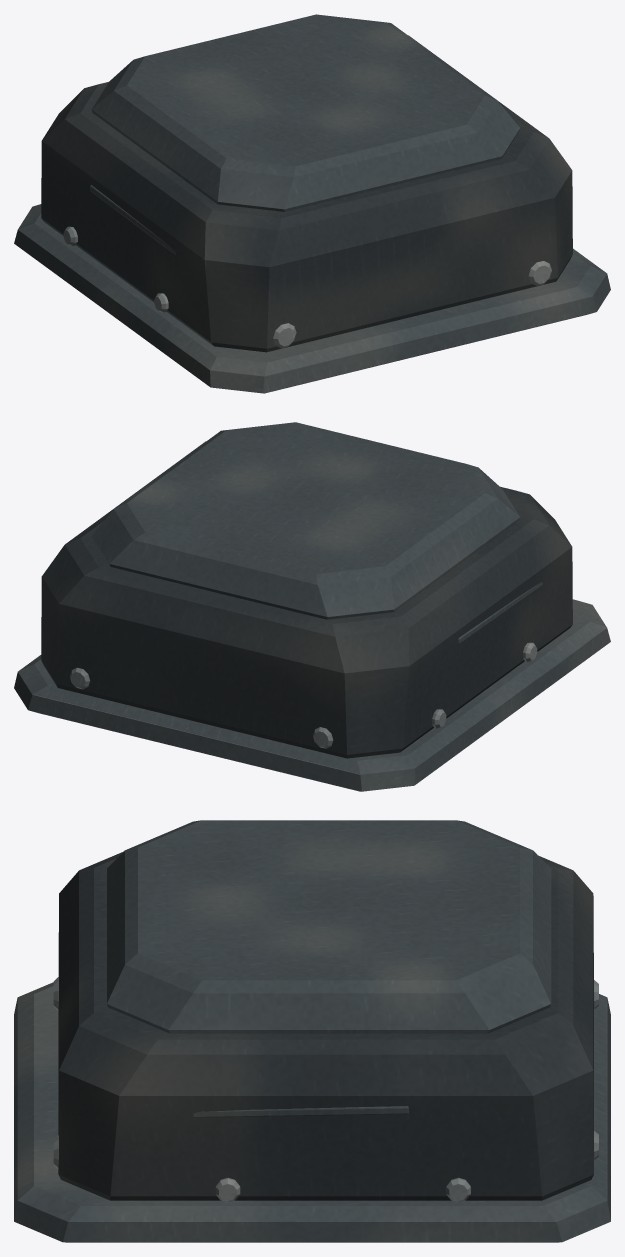
The model's file is 02_Casque.fbx.
3 views of the same model, one above another, from view 1: azimuth 30°, elevation 25°; view 2: azimuth 150°, elevation 25°; view 3: azimuth 270°, elevation 25° (orthographic). The views are drawn at different scales.
Visible parts, largest first — view 1: 02_Casque; view 2: 02_Casque; view 3: 02_Casque.
Boxes of the visible parts, x1,y1,x2,y2 form: 02_Casque: [14, 14, 610, 393]; 02_Casque: [14, 422, 610, 791]; 02_Casque: [14, 820, 610, 1242].
Bounding box in the file's own units: 1.49 × 0.628 × 1.52.
Materials: 1 (1 with a texture image).
